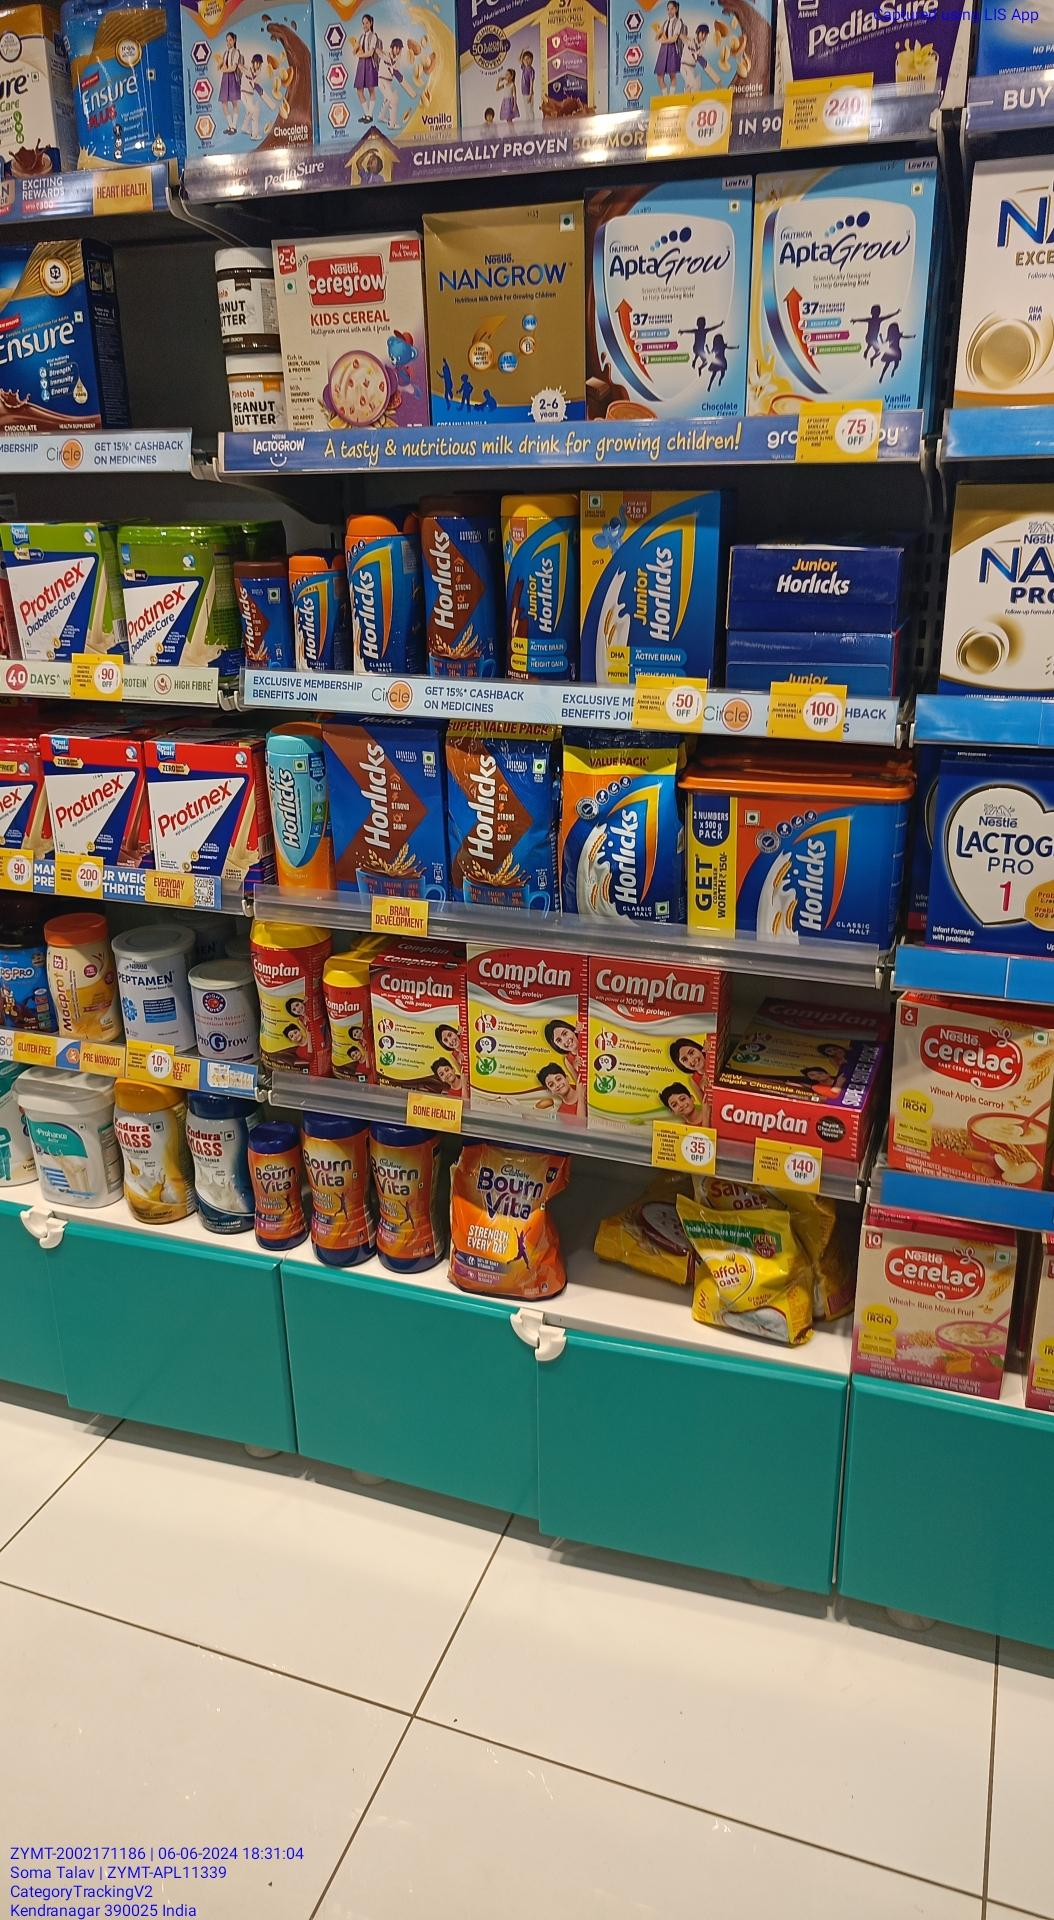BOURN_VITA_200_G_JAR: (249, 1118, 300, 1251)
BOURN_VITA_500_G_JAR: (302, 1112, 370, 1269), (375, 1126, 431, 1269)
BOURN_VITA_750_G_POUCH: (447, 1144, 579, 1302)
COMPLAN_CHOCOLATE_200_GMS_JAR: (326, 955, 370, 1082)
COMPLAN_CHOCOLATE_200_GMS_PACK: (375, 963, 466, 1094)
COMPLAN_CHOCOLATE_500_GMS_JAR: (252, 920, 312, 1072)
COMPLAN_KESAR_BADAM_500_GMS_PACK: (469, 944, 588, 1125)
COMPLAN_PISTA_BADAM_500_GMS_PACK: (592, 960, 715, 1122)
HORLICKS_LITE_REGULAR_MALT_500_GM_JAR: (266, 720, 330, 902)
HORLICK_CHOCOLATE_200_G_JAR: (236, 562, 284, 668)
HORLICK_CHOCOLATE_500_G_JAR: (424, 497, 489, 676)
HORLICK_CHOCOLATE_500_G_PACK: (332, 725, 444, 903)
HORLICK_CHOCOLATE_750_G_POUCH: (450, 721, 557, 908)
HORLICK_CLASSIC_MALT_200_G_JAR: (289, 550, 334, 672)
HORLICK_CLASSIC_MALT_500_G_JAR: (344, 511, 409, 676)
HORLICK_CLASSIC_MALT_750_G_POUCH: (559, 732, 680, 924)
HORLICK_MALT_1_KG_CONTAINER: (689, 780, 894, 946)
